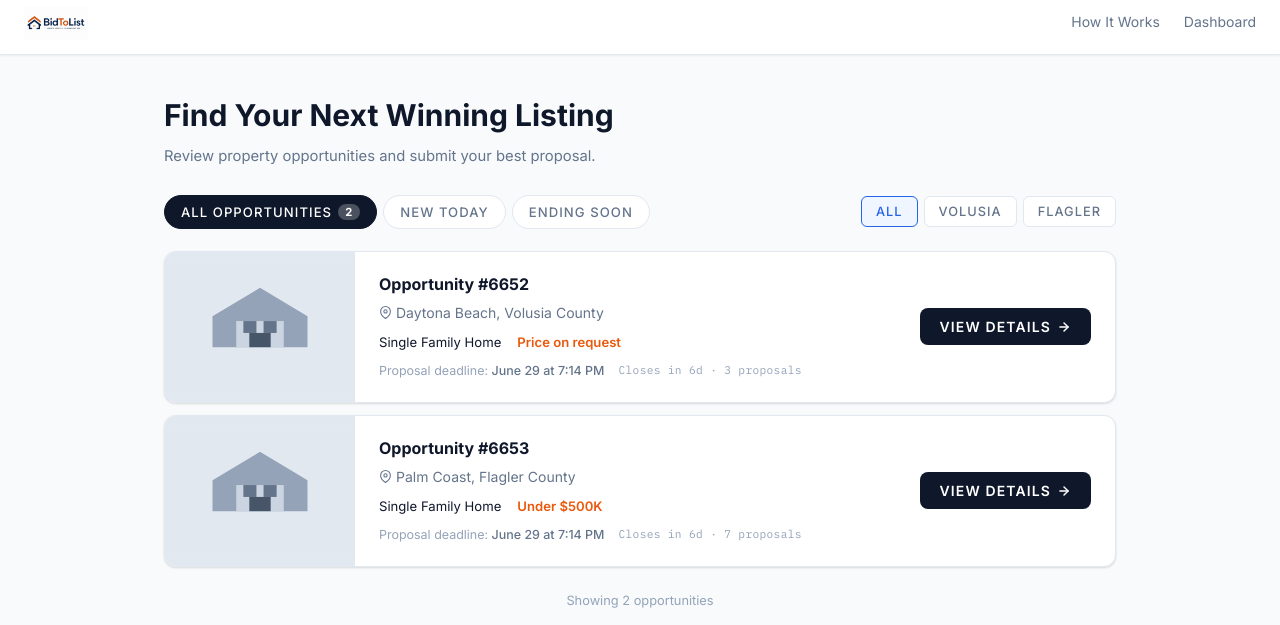
Test: BrowseListingsPage — county filter › filters to Volusia county only
expect the text "Daytona Beach, Volusia County" is shown: met, box [396,302,604,324]
Click the button "Volusia" at (970, 212), box [924,196,1017,227]
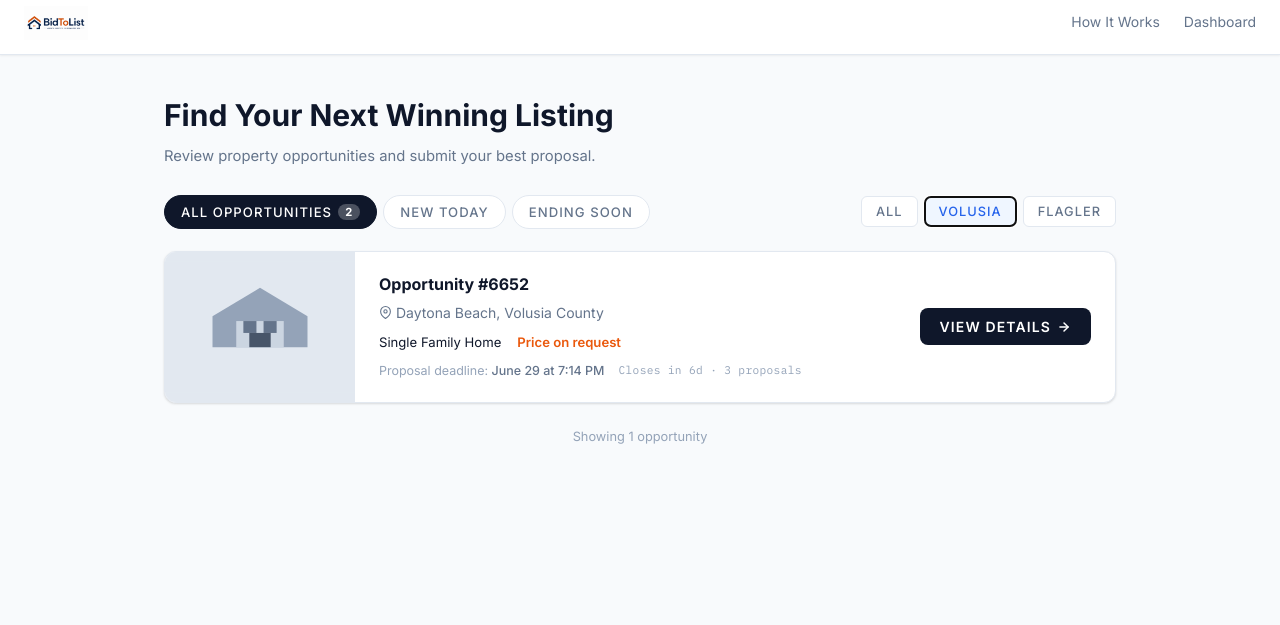
expect the text "Daytona Beach, Volusia County" is shown: met, box [396,302,604,324]
expect the text "Palm Coast" is gone: met
